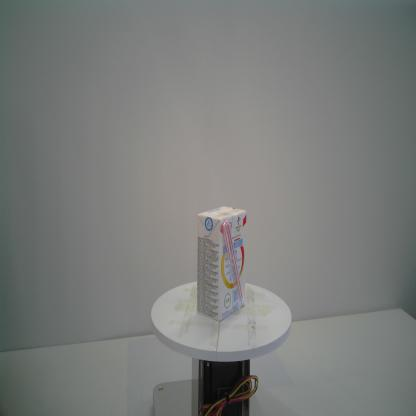Milk: (196, 206, 247, 322)
